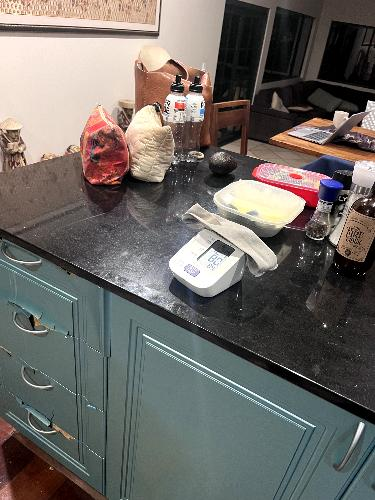bpm: (191, 230, 239, 279)
